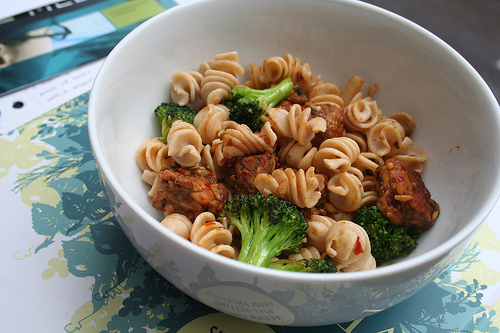broccoli: (222, 191, 309, 268), (351, 204, 418, 265), (226, 77, 294, 133), (152, 103, 193, 140), (268, 254, 337, 274)
